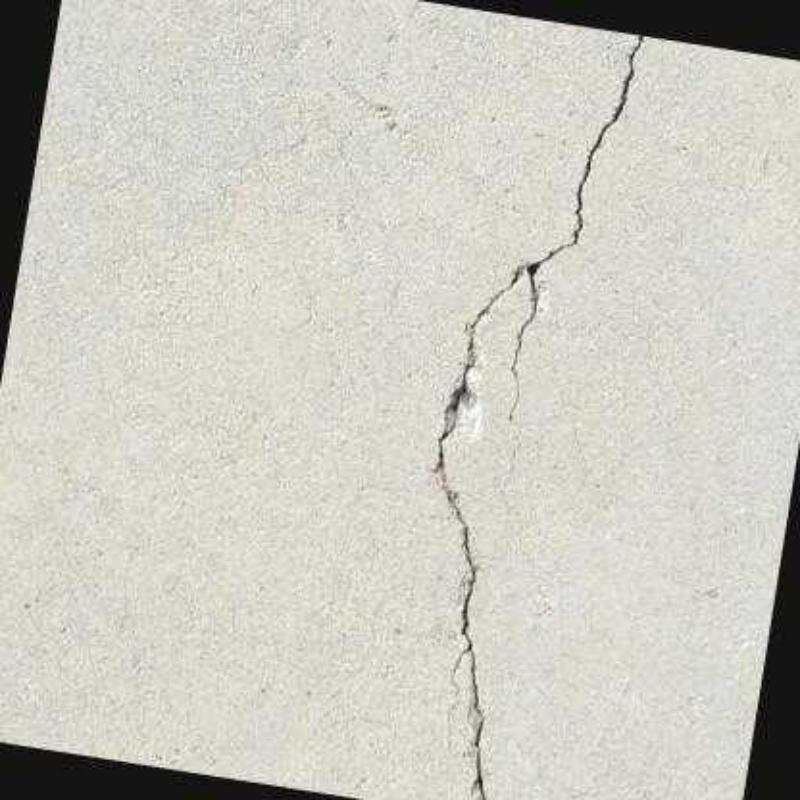crack: (434, 34, 646, 799), (450, 650, 467, 712)
